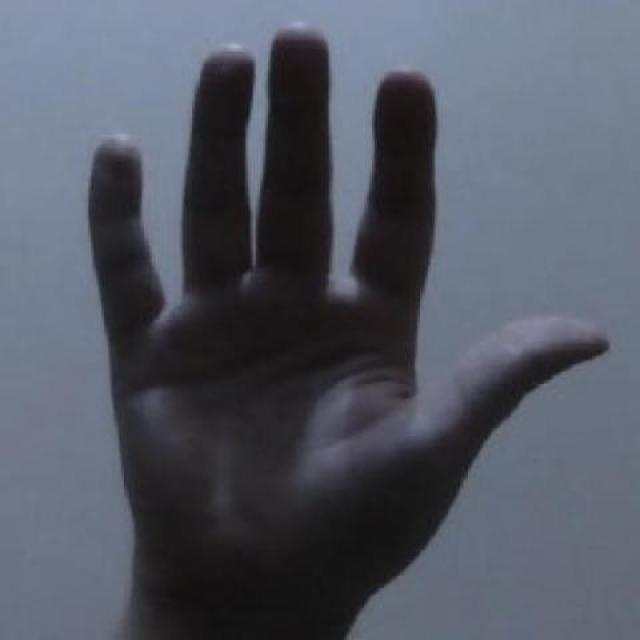Open Hand: (47, 22, 617, 633)
